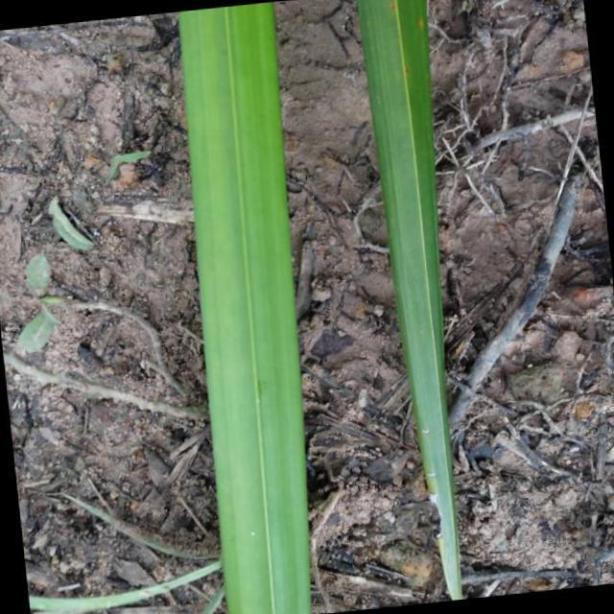nitrogen: (176, 5, 315, 614)
